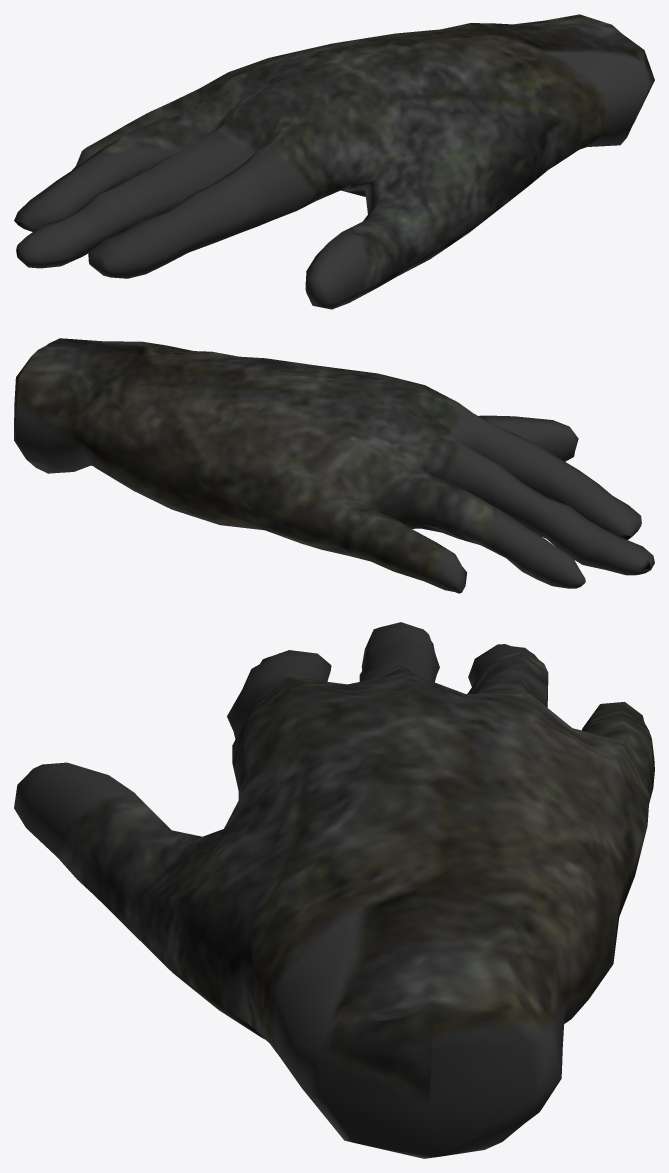
Rendered from GiantHand.fbx.
3 renders of one model, top to bottom at view 1: azimuth 30°, elevation 25°; view 2: azimuth 150°, elevation 25°; view 3: azimuth 270°, elevation 25°, orthographic. The views are drawn at different scales.
Visible parts, largest first — view 1: GiantHand:Group2; view 2: GiantHand:Group2; view 3: GiantHand:Group2.
Part boxes in pixels (x1,y1,x2,y2): GiantHand:Group2: [14, 14, 654, 309]; GiantHand:Group2: [14, 338, 654, 593]; GiantHand:Group2: [14, 622, 654, 1158].
Bounding box in the file's own units: 155 × 35.6 × 84.29.
